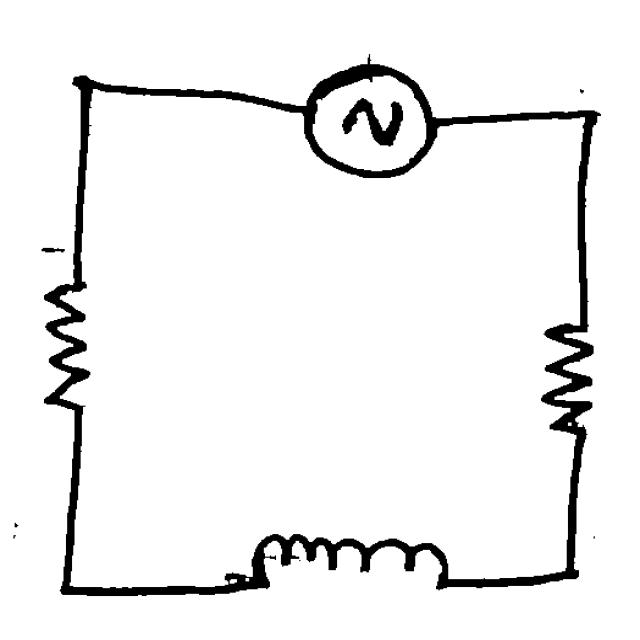ac: (293, 51, 444, 192)
resistor: (30, 254, 110, 430), (532, 294, 610, 460)
